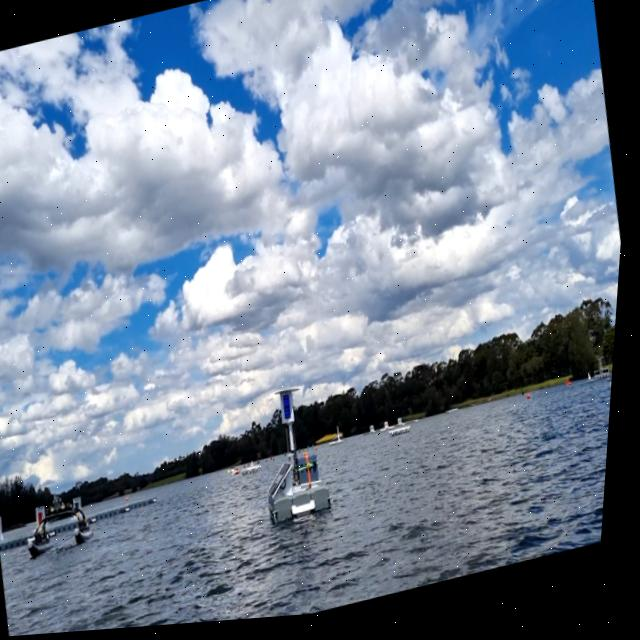led: (286, 396, 300, 427)
